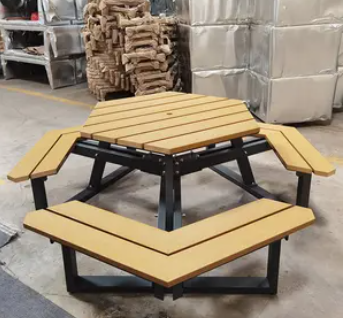obstacle: (14, 89, 335, 306)
